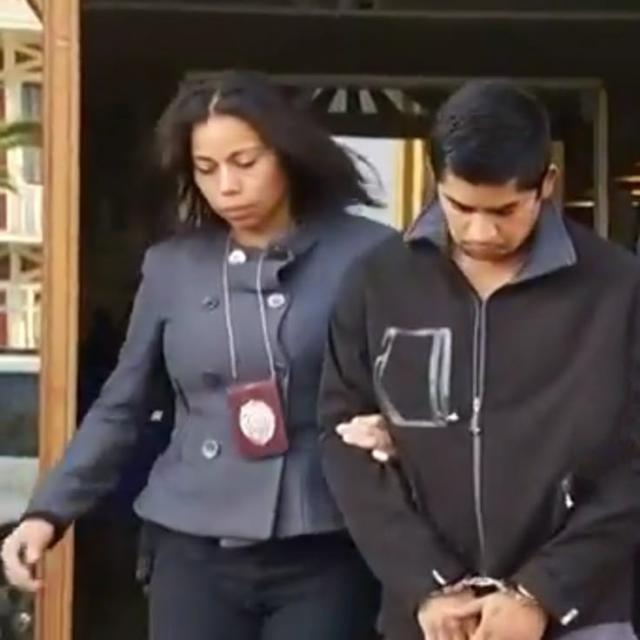9_cabeza_baja: (427, 78, 559, 261)
